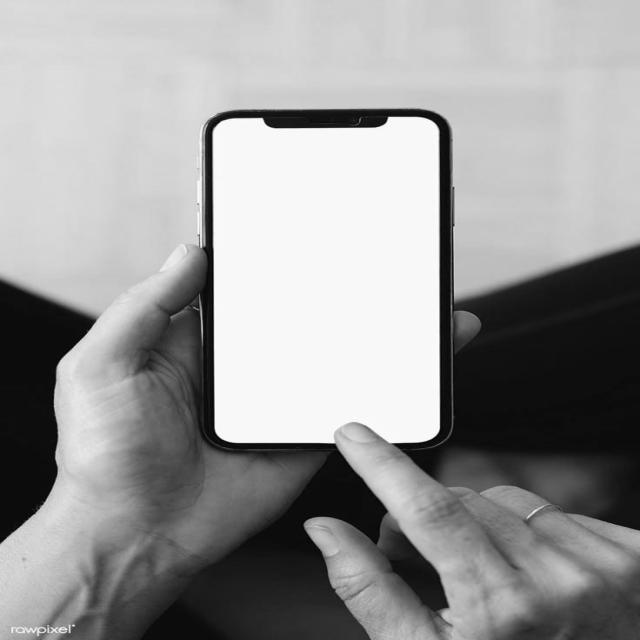mobile: (184, 94, 490, 469)
